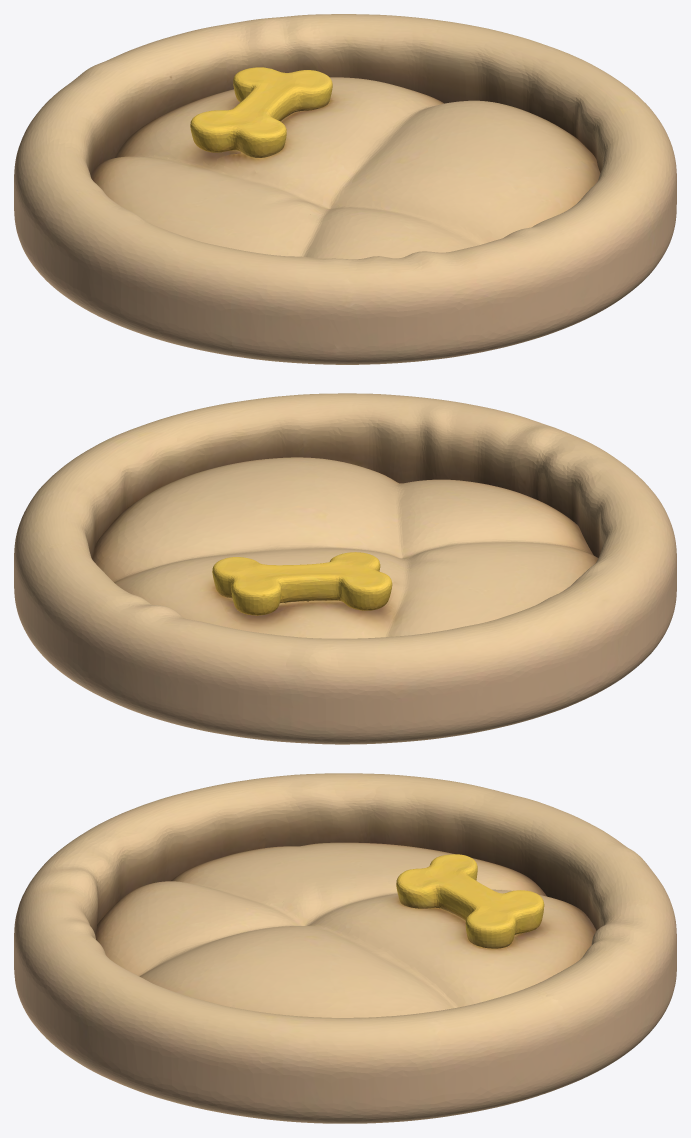
3 renders of one model, top to bottom at view 1: azimuth 30°, elevation 25°; view 2: azimuth 150°, elevation 25°; view 3: azimuth 270°, elevation 25°, orthographic.
Visible parts, largest first — view 1: tripo_node_97e1aa9a-9b37-44e0-97b4-9ad5a9c792b7; view 2: tripo_node_97e1aa9a-9b37-44e0-97b4-9ad5a9c792b7; view 3: tripo_node_97e1aa9a-9b37-44e0-97b4-9ad5a9c792b7.
Part boxes in pixels (box(x1,y1,x2,y2)): tripo_node_97e1aa9a-9b37-44e0-97b4-9ad5a9c792b7: box(14, 14, 676, 364); tripo_node_97e1aa9a-9b37-44e0-97b4-9ad5a9c792b7: box(14, 393, 676, 744); tripo_node_97e1aa9a-9b37-44e0-97b4-9ad5a9c792b7: box(14, 773, 676, 1123).
Bounding box in the file's own units: 0.9791 × 0.1497 × 0.9794.
1 material, 1 textured.
